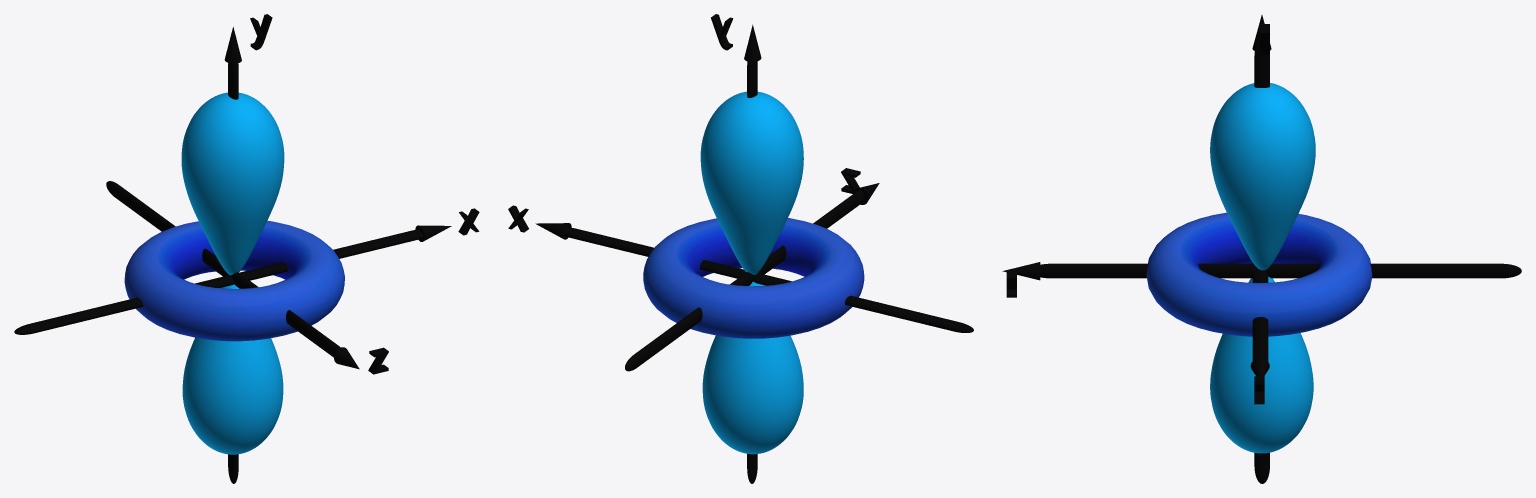
File: dorbital.fbx
3 renders of one model, left to right at view 1: azimuth 30°, elevation 25°; view 2: azimuth 150°, elevation 25°; view 3: azimuth 270°, elevation 25°, orthographic. The views are drawn at different scales.
Parts seen in each view (by area): view 1: node_id59, node_id30, node_id53, root (×3); view 2: node_id59, node_id30, node_id53, root (×3); view 3: node_id59, node_id30, node_id53, root (×3).
Boxes of the visible parts, x1,y1,x2,y2 form: node_id59: (124, 220, 344, 341); node_id30: (181, 92, 284, 275); node_id53: (182, 284, 283, 454); root (×3): (14, 63, 423, 483); node_id59: (643, 218, 864, 338); node_id30: (700, 91, 803, 274); node_id53: (702, 281, 803, 454); root (×3): (563, 61, 973, 483); node_id59: (1146, 212, 1372, 336); node_id30: (1210, 83, 1315, 270); node_id53: (1210, 276, 1313, 453); root (×3): (1040, 51, 1521, 483).
Bounding box in the file's own units: 0.791 × 0.7493 × 0.751.
Materials: 8 (5 with a texture image).
